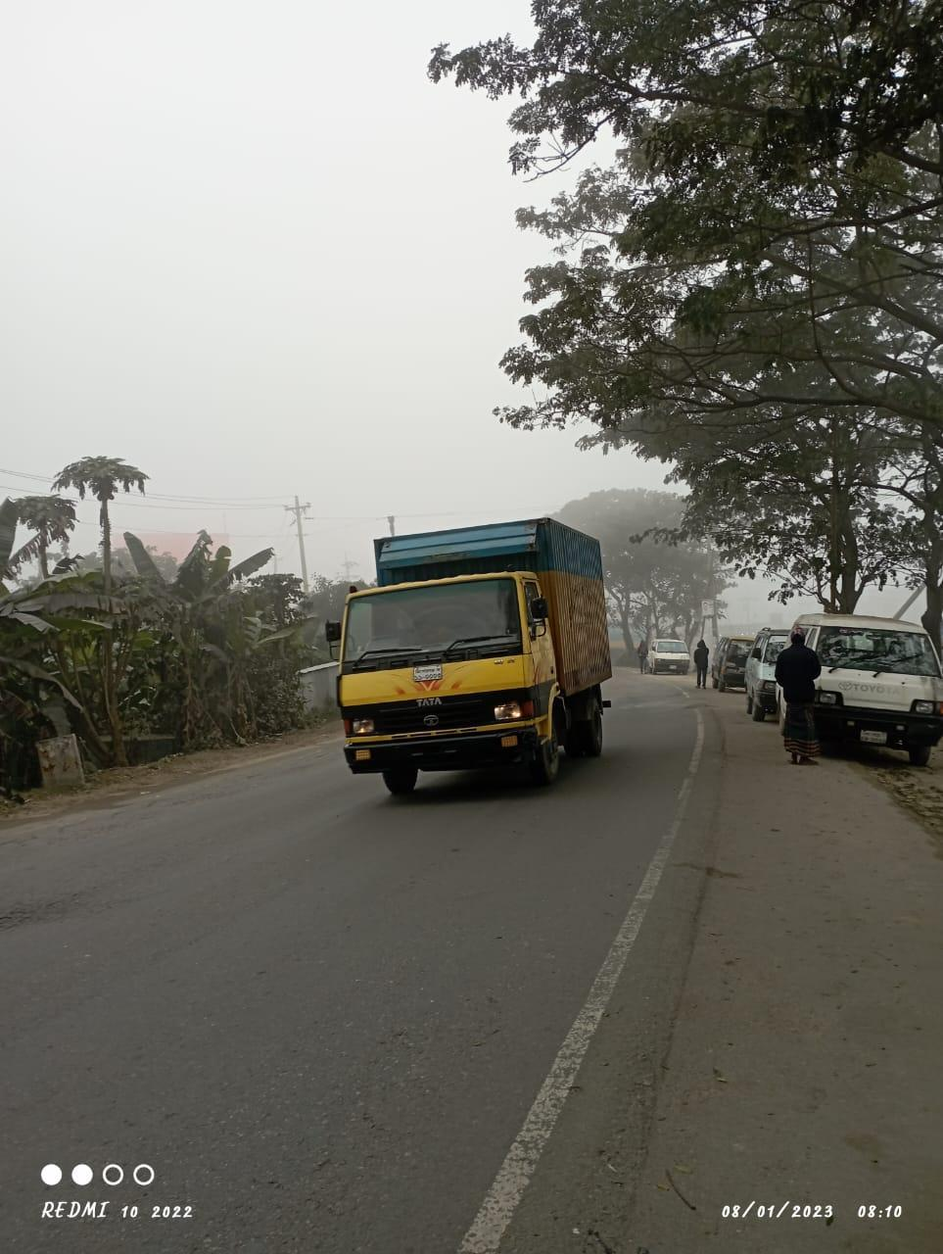Car: (791, 608, 943, 764), (711, 628, 753, 697), (642, 632, 689, 678)
Truck: (325, 514, 616, 792)
